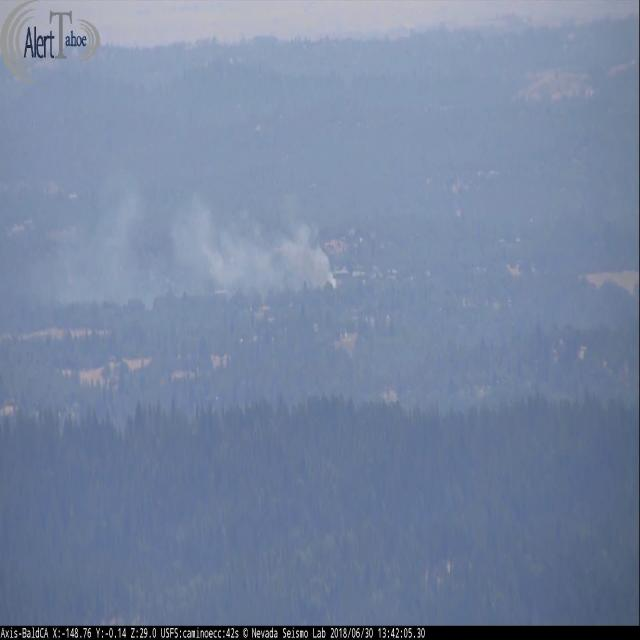smoke: (50, 188, 339, 292)
